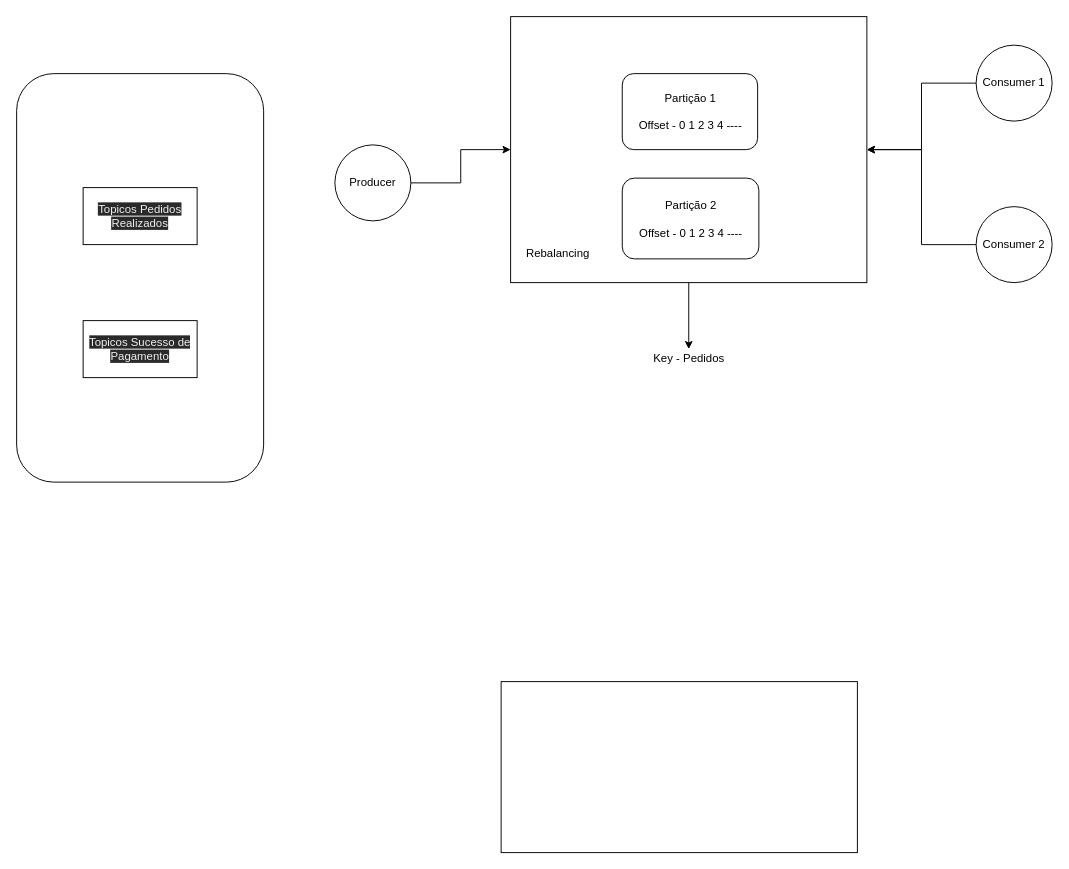
Image size: 1069x869. Some labels were removed from this diagram. The shapes that lost their labels are listed below. From the top down, each one's box as (x1, y1, x2, y2) in pixels, then its label:
(510, 16, 867, 283): Topicos Pedidos
(16, 73, 264, 482): Broker Kafka
(500, 681, 857, 853): Topicos Sucesso
